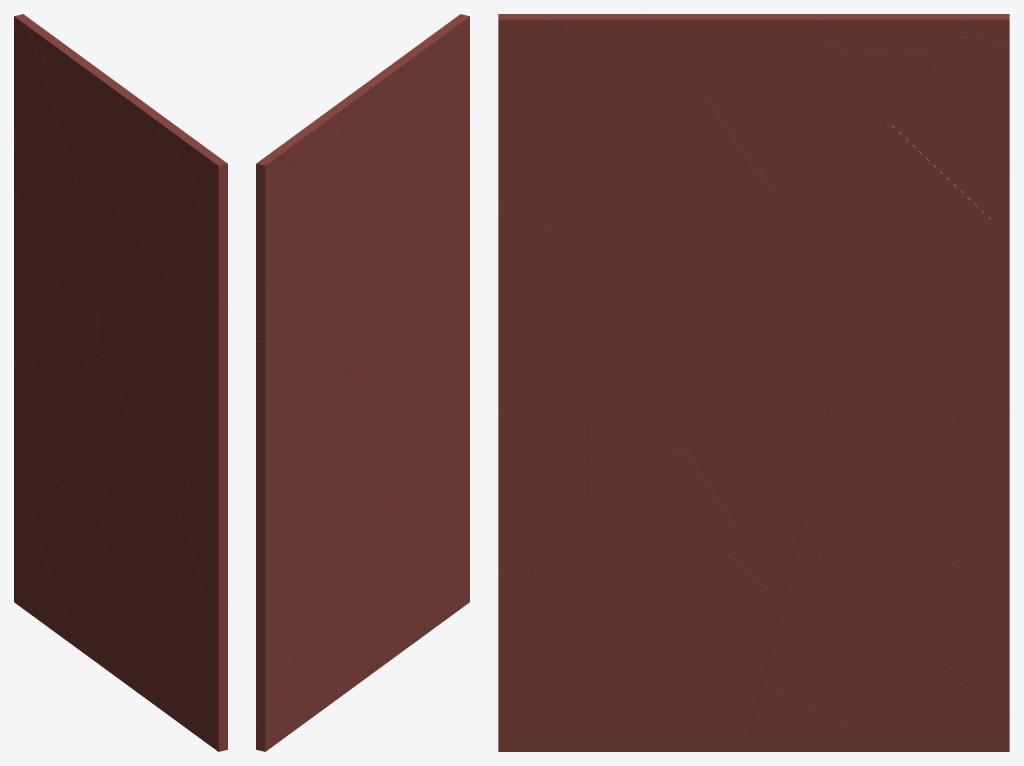
The model's file is wall_02Cx.fbx.
3 renders of one model, left to right at view 1: azimuth 30°, elevation 25°; view 2: azimuth 150°, elevation 25°; view 3: azimuth 270°, elevation 25°, orthographic. The views are drawn at different scales.
Visible parts, largest first — view 1: wall02_C_cell_cell.008, wall02_C_cell_cell.006, wall02_C_cell.002_cell.001, wall02_C_cell.001_cell.007, wall02_C_cell.003_cell.002, wall02_C_cell_cell.003, wall02_C_cell.002_cell, wall02_C_cell.002_cell.009, wall02_C_cell.004_cell.004, wall02_C_cell.002_cell.003, wall02_C_cell.001_cell, wall02_C_cell.001_cell.003 (+22 smaller); view 2: wall02_C_cell_cell.008, wall02_C_cell_cell.006, wall02_C_cell.002_cell.001, wall02_C_cell.001_cell.007, wall02_C_cell.003_cell.002, wall02_C_cell.002_cell, wall02_C_cell_cell.003, wall02_C_cell.002_cell.009, wall02_C_cell.001_cell, wall02_C_cell.004_cell.004, wall02_C_cell.003_cell.007, wall02_C_cell.001_cell.003 (+24 smaller); view 3: wall02_C_cell_cell.008, wall02_C_cell.002_cell.001, wall02_C_cell.001_cell.007, wall02_C_cell_cell.006, wall02_C_cell.003_cell.002, wall02_C_cell.002_cell, wall02_C_cell_cell.003, wall02_C_cell.002_cell.010, wall02_C_cell.002_cell.009, wall02_C_cell.004_cell.004, wall02_C_cell.001_cell, wall02_C_cell.002_cell.003 (+23 smaller).
Part boxes in pixels (<box>): wall02_C_cell_cell.008: <box>107,210,200,415</box>; wall02_C_cell_cell.006: <box>116,130,227,318</box>; wall02_C_cell.002_cell.001: <box>104,517,181,713</box>; wall02_C_cell.001_cell.007: <box>17,138,97,341</box>; wall02_C_cell.003_cell.002: <box>23,469,113,628</box>; wall02_C_cell_cell.003: <box>156,314,227,484</box>; wall02_C_cell.002_cell: <box>166,595,227,751</box>; wall02_C_cell.002_cell.009: <box>116,450,203,597</box>; wall02_C_cell.004_cell.004: <box>64,98,132,244</box>; wall02_C_cell.002_cell.003: <box>187,451,227,604</box>; wall02_C_cell.001_cell: <box>14,31,62,186</box>; wall02_C_cell.001_cell.003: <box>26,251,87,373</box>; wall02_C_cell_cell.008: <box>358,195,451,363</box>; wall02_C_cell_cell.006: <box>367,68,469,209</box>; wall02_C_cell.002_cell.001: <box>355,502,432,673</box>; wall02_C_cell.001_cell.007: <box>268,216,348,374</box>; wall02_C_cell.003_cell.002: <box>274,533,364,694</box>; wall02_C_cell.002_cell: <box>417,455,469,639</box>; wall02_C_cell_cell.003: <box>407,168,469,357</box>; wall02_C_cell.002_cell.009: <box>367,404,454,509</box>; wall02_C_cell.001_cell: <box>256,164,313,326</box>; wall02_C_cell.004_cell.004: <box>315,134,383,271</box>; wall02_C_cell.003_cell.007: <box>256,466,305,620</box>; wall02_C_cell.001_cell.003: <box>277,366,338,487</box>; wall02_C_cell_cell.008: <box>547,168,767,384</box>; wall02_C_cell.002_cell.001: <box>591,549,781,751</box>; wall02_C_cell.001_cell.007: <box>798,119,1005,345</box>; wall02_C_cell_cell.006: <box>498,33,753,226</box>; wall02_C_cell.003_cell.002: <box>762,556,990,734</box>; wall02_C_cell.002_cell: <box>498,568,629,751</box>; wall02_C_cell_cell.003: <box>498,207,653,414</box>; wall02_C_cell.002_cell.010: <box>691,367,827,534</box>; wall02_C_cell.002_cell.009: <box>548,449,740,588</box>; wall02_C_cell.004_cell.004: <box>717,50,881,219</box>; wall02_C_cell.001_cell: <box>885,35,1009,222</box>; wall02_C_cell.002_cell.003: <box>498,398,587,570</box>.
Bounding box in the file's own units: 20.22 × 1222 × 773.
